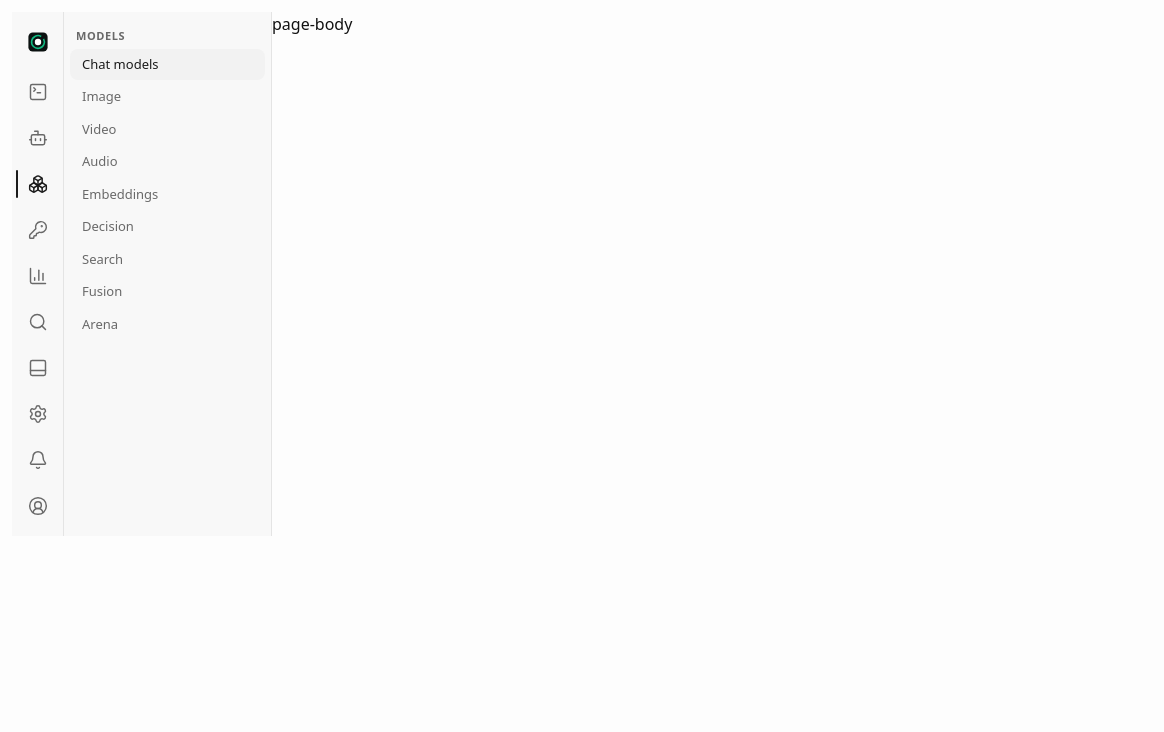
Test case: panel health tab counts keys
What coordinates should you click on to do the following:
click the button named "Toggle panel"
I would click on:
 (38, 368)
Its box is [16, 346, 60, 390].
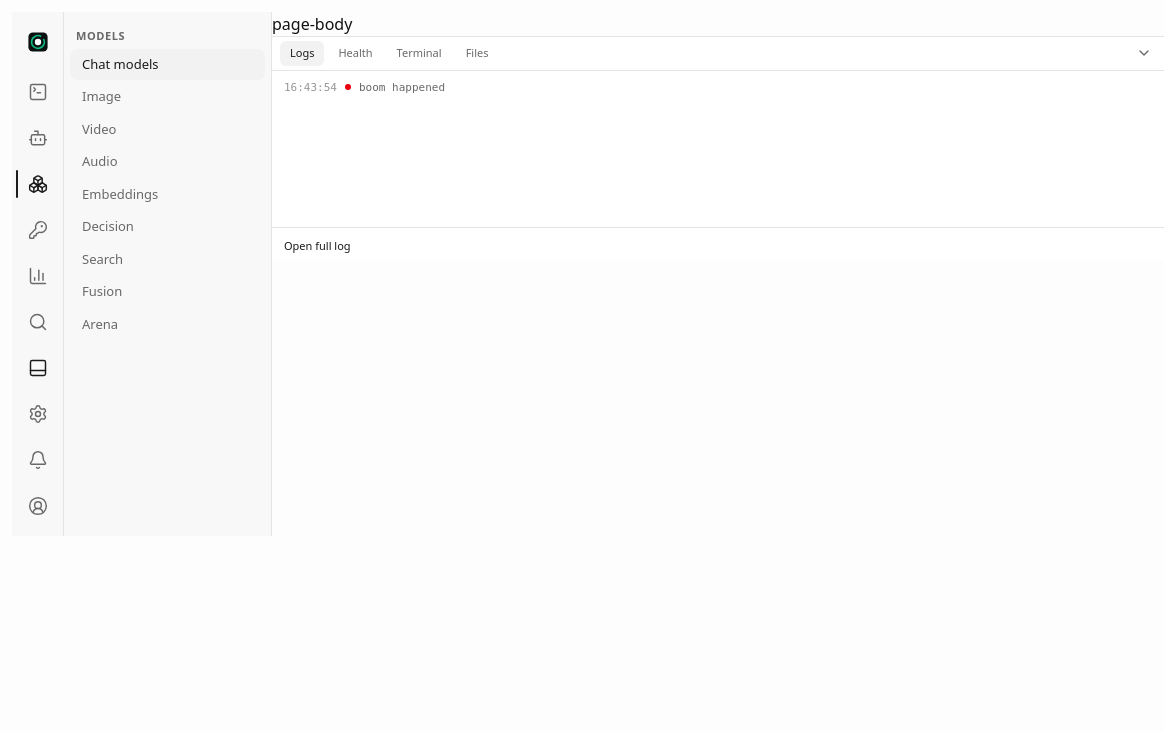
What coordinates should you click on to do the following:
click the tab "Health"
I would click on:
 (356, 53)
Its box is [328, 41, 383, 66].
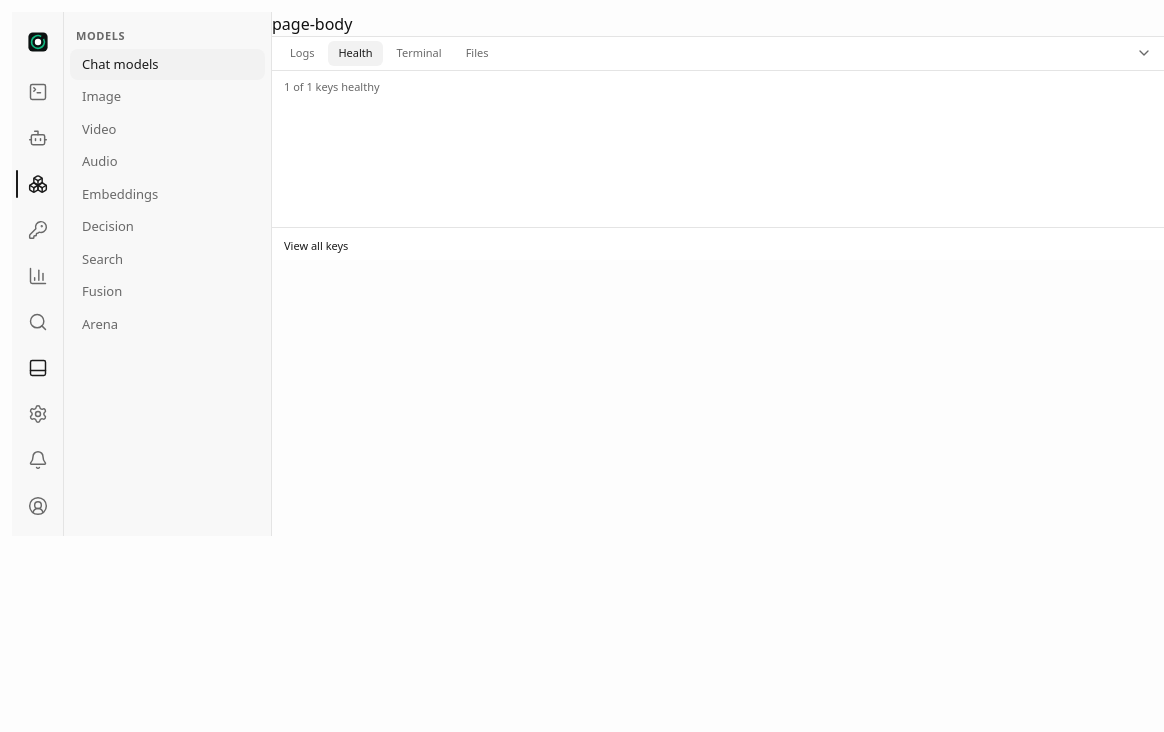
Expected: the text "1 of 1 keys healthy" is shown, [284, 78, 380, 94]
